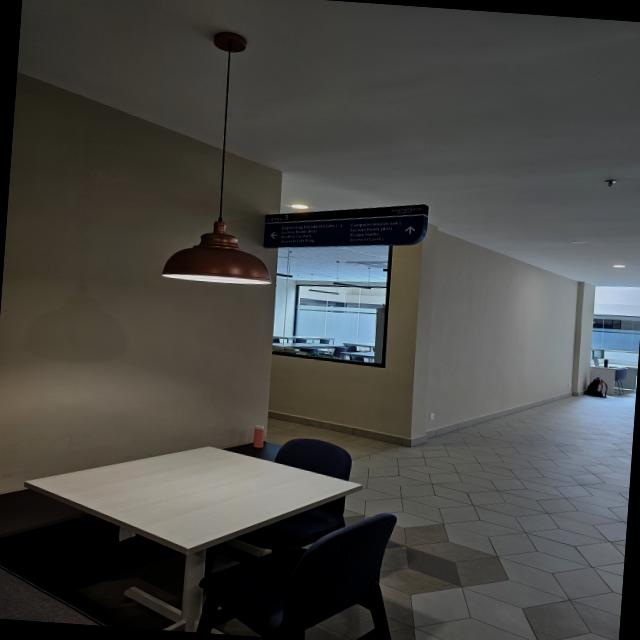footpath: (419, 396, 634, 640)
obstacle: (0, 388, 427, 640), (582, 374, 610, 399)
